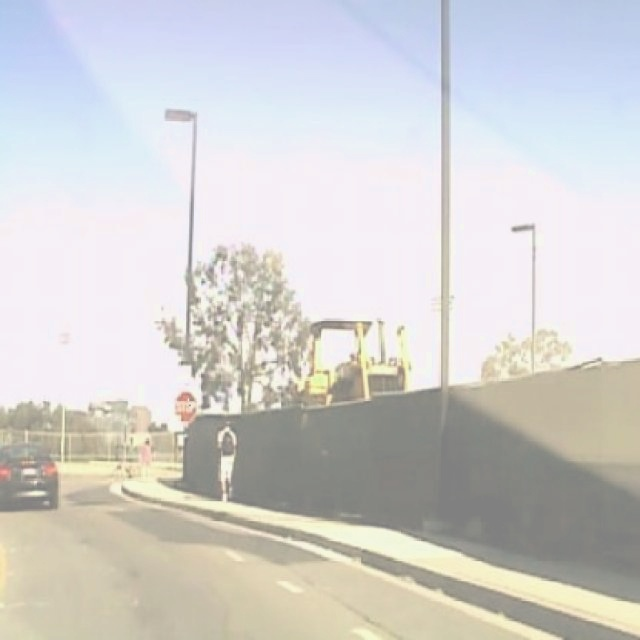stop: (174, 391, 197, 423)
